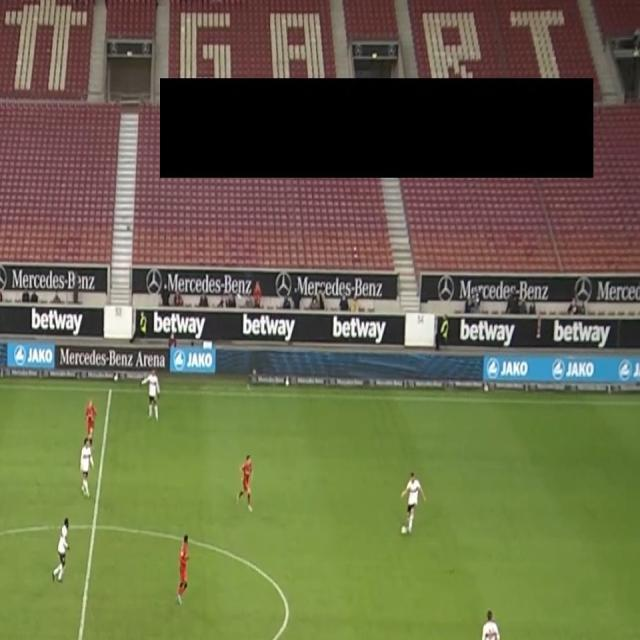ball: (400, 523, 408, 537)
